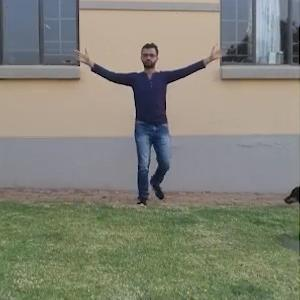takeoff: (70, 40, 215, 196)
